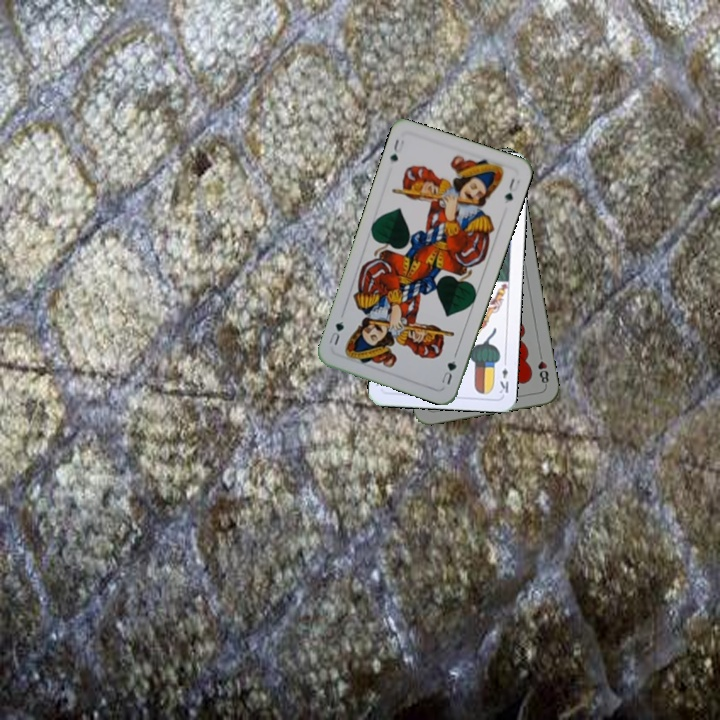EK: (496, 355, 511, 396)
GU: (437, 350, 459, 387), (386, 135, 402, 164)
H8: (534, 348, 551, 389)
